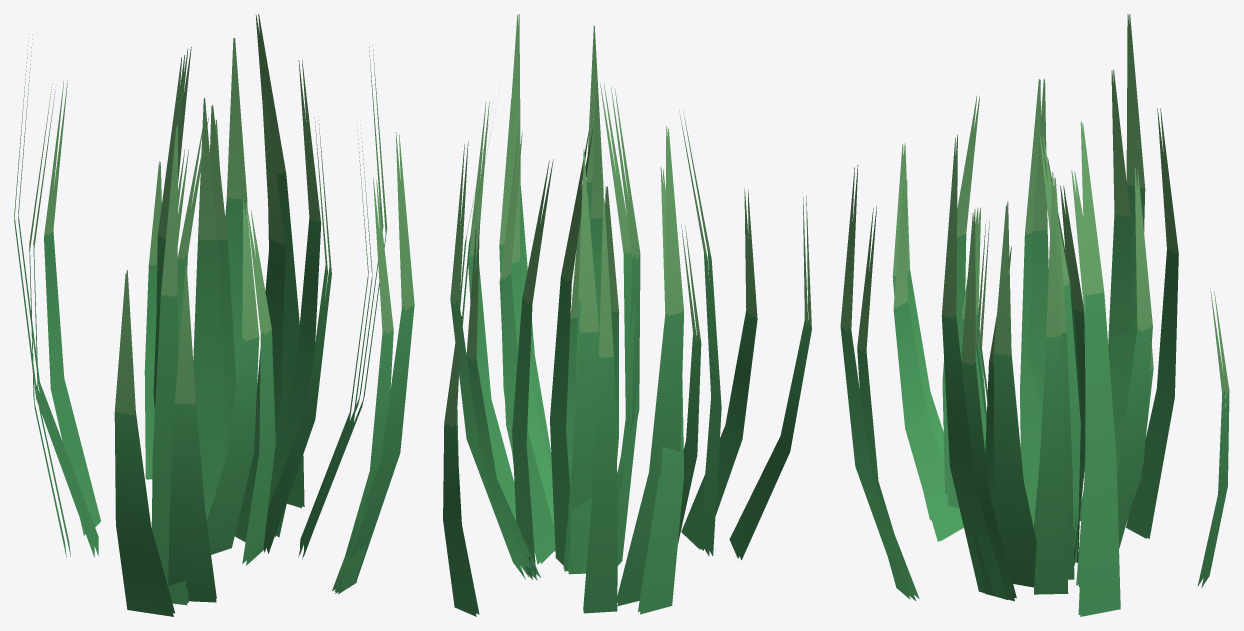
Rendered from flora_grass_clump_a.gltf.
The picture shows the model from 3 angles, left to right: view 1: azimuth 30°, elevation 25°; view 2: azimuth 150°, elevation 25°; view 3: azimuth 270°, elevation 25°; orthographic projection. The views are drawn at different scales.
Parts seen in each view (by area): view 1: flora_grass_clump_a; view 2: flora_grass_clump_a; view 3: flora_grass_clump_a.
Part boxes in pixels (left/top/right/bottom): flora_grass_clump_a: left=14, top=14, right=414, bottom=616; flora_grass_clump_a: left=443, top=14, right=811, bottom=616; flora_grass_clump_a: left=840, top=14, right=1229, bottom=616.
Size of what is drawn, in the model's own units: 0.2369 by 0.3971 by 0.2854.
